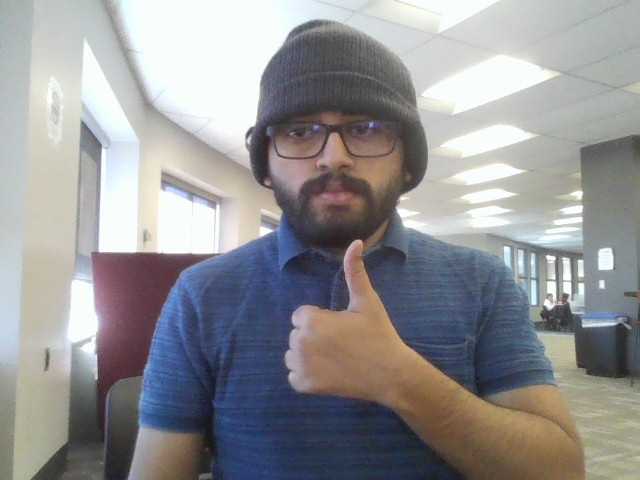start: (276, 228, 411, 415)
